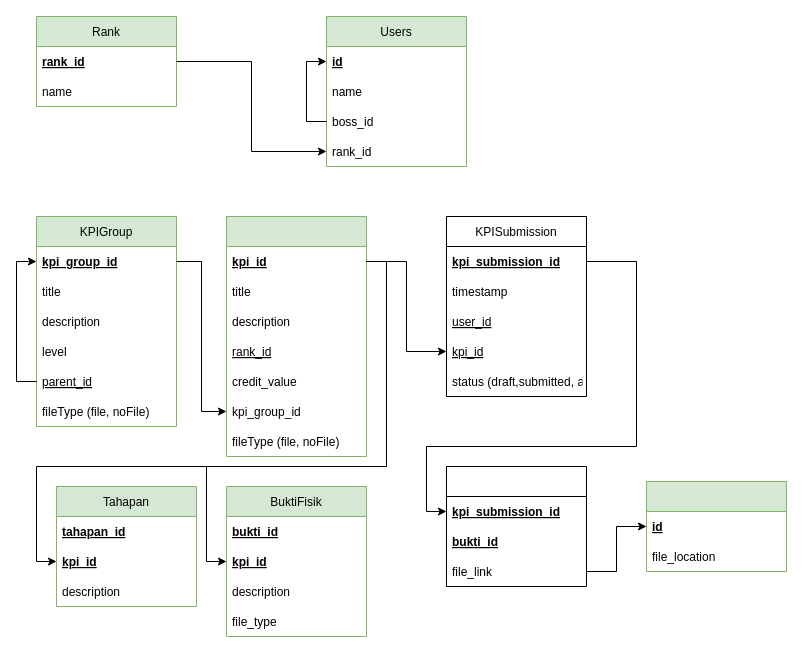
This 803x653 diagram has some shape labels left out. The shapes that lost their labels are listed below. From the top down, each one's box as (x1, y1, x2, y2) in pixels, then its label:
(226, 216, 366, 456): KPIActivity
(446, 466, 586, 586): KPISubmissionBuktiFisik
(646, 480, 786, 572): KPIFiles
